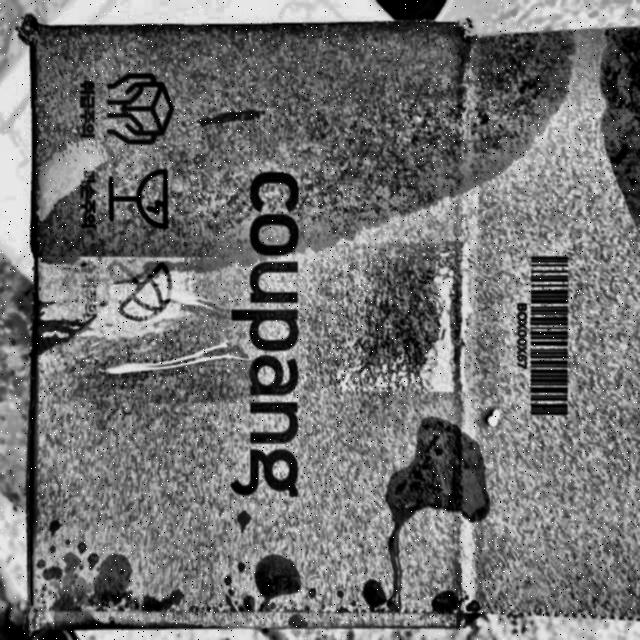box: (17, 10, 640, 632)
wet: (23, 28, 571, 267), (380, 417, 491, 550), (18, 541, 190, 611), (602, 27, 640, 224), (246, 555, 319, 603)
